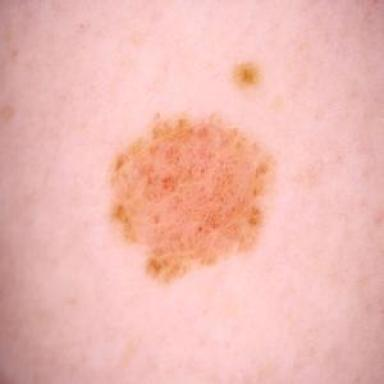Melanoma: (112, 113, 273, 283), (234, 62, 259, 85)
